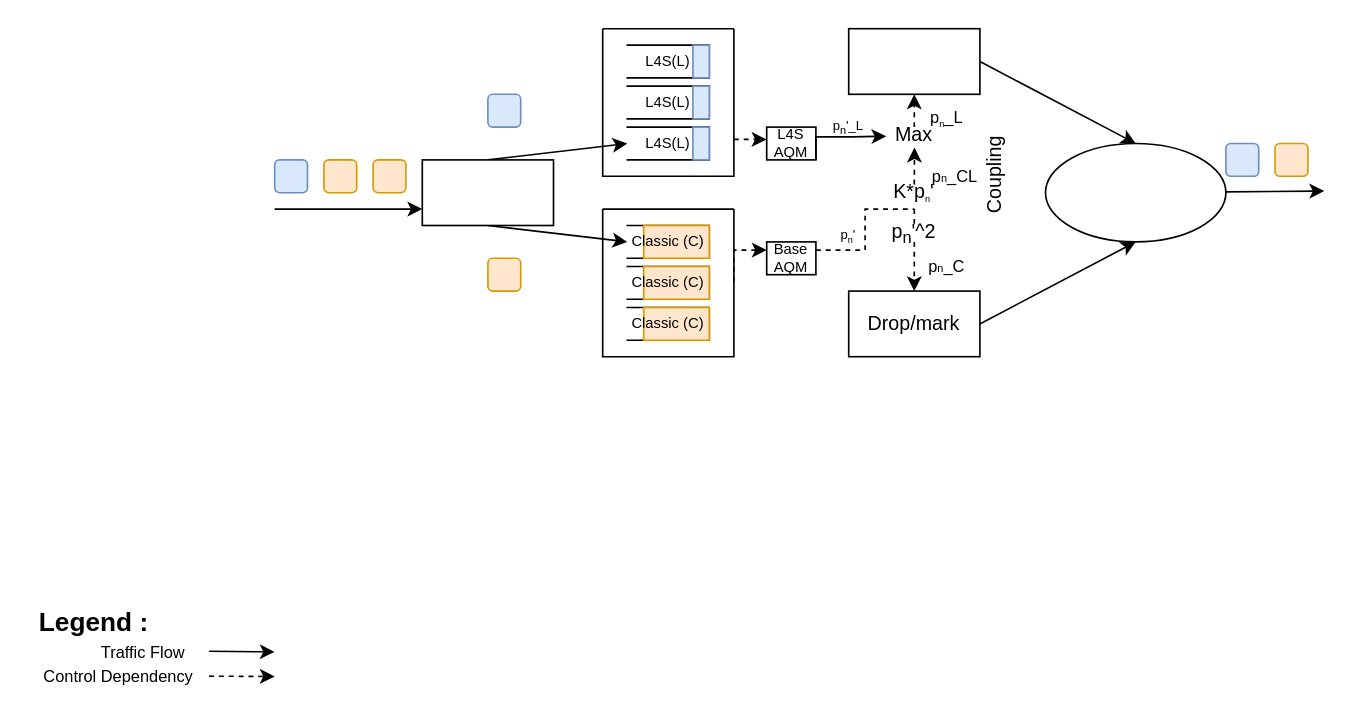
Some shapes in this 1366 by 718 pixel diagram are drawn without their labels. Each missing label, with the centre of its shape:
Conditional Priority Scheduler: the point at 1135,192
ECN marker: the point at 913,60
IP-ECN Classifier: the point at 487,192
